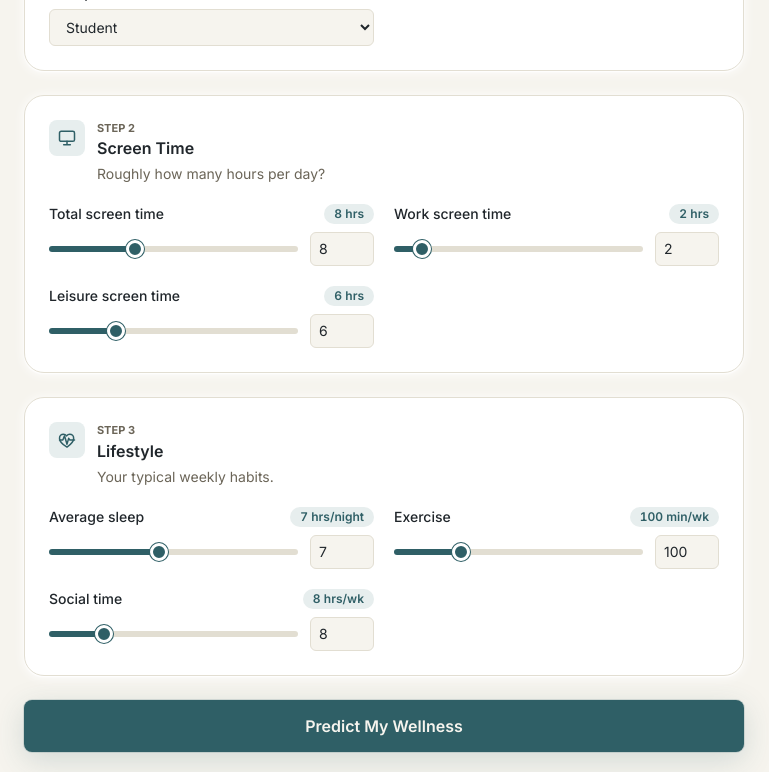
PredictionForm › shows an API error message when the request fails
The image size is (769, 772).
(page scrolled)
What coordinates should you click on to do the following:
click the button "Predict My Wellness"
I would click on:
 (384, 726)
Its box is [24,700,744,752].
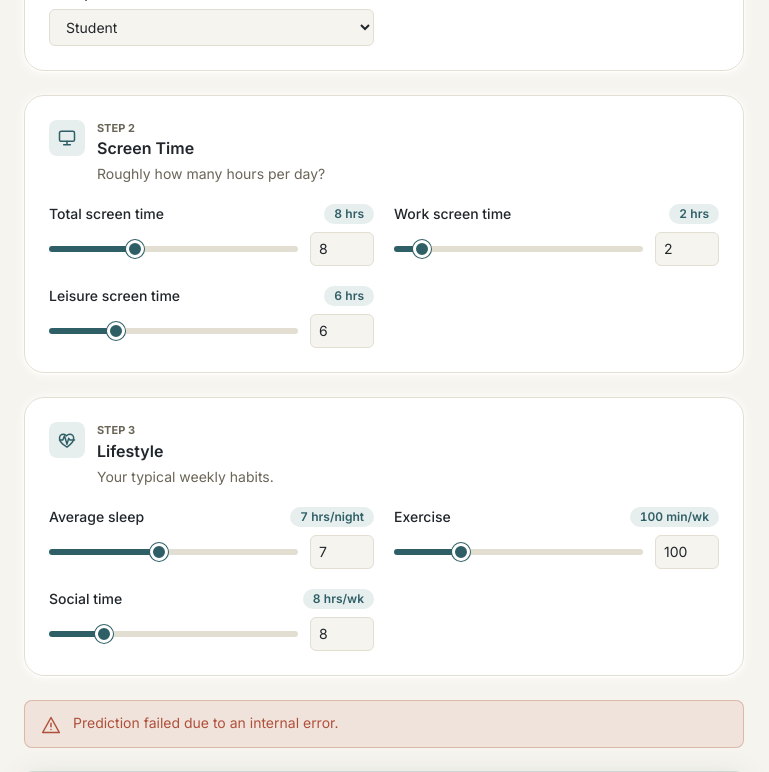
Expected: the text "Prediction failed due to an internal error." is shown, [24,700,744,748]
